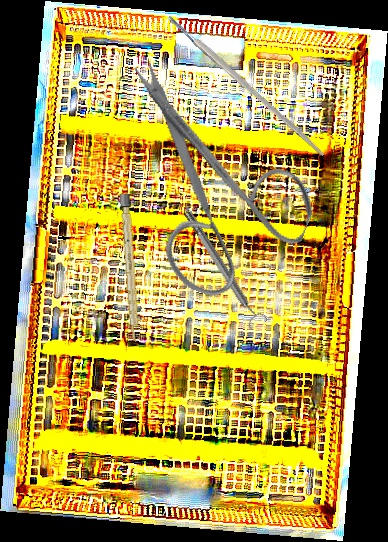Fixation Ring: (179, 206, 269, 332)
Iris Scissors: (67, 56, 343, 320)
Scalpel Handle: (166, 12, 327, 159), (119, 193, 141, 343)
